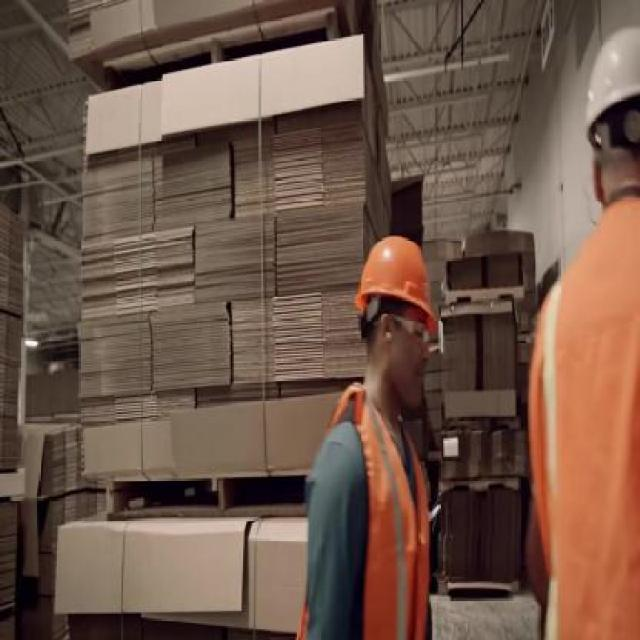Vest: (522, 184, 640, 639), (299, 386, 431, 639)
helmet: (351, 233, 437, 336), (584, 19, 640, 157)
person: (528, 25, 640, 640), (300, 232, 442, 640)
